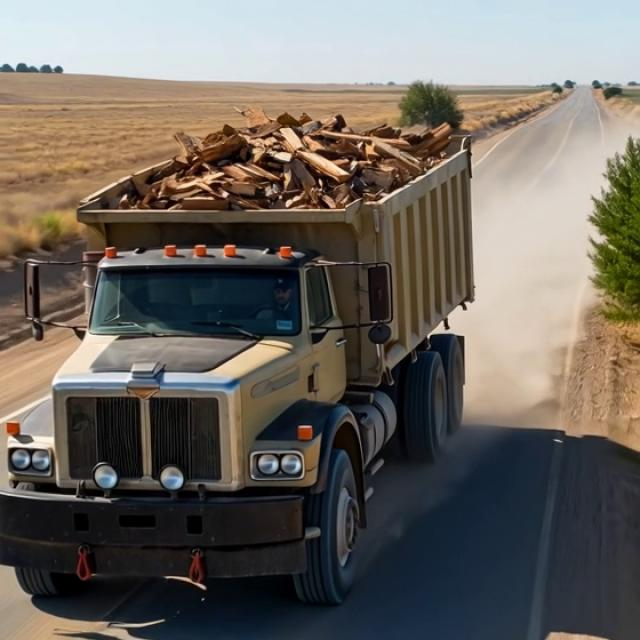Box: (78, 109, 484, 232)
Truck: (2, 93, 492, 594)
